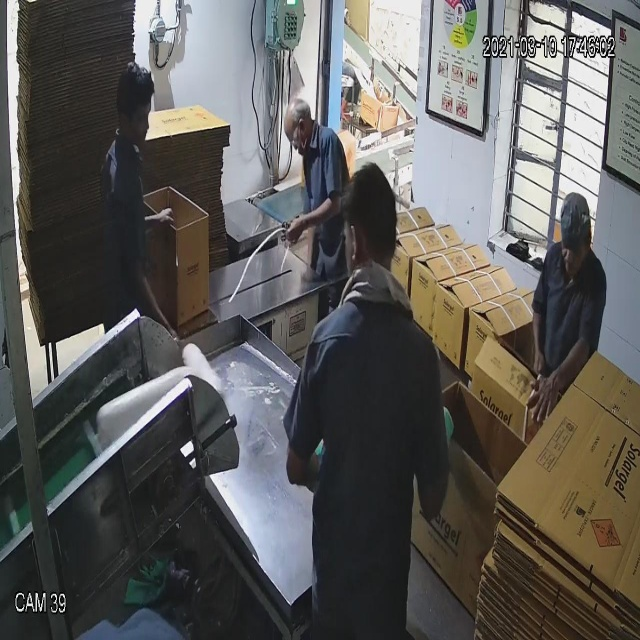Sin_guantes: (522, 330, 600, 426), (277, 191, 346, 248)
